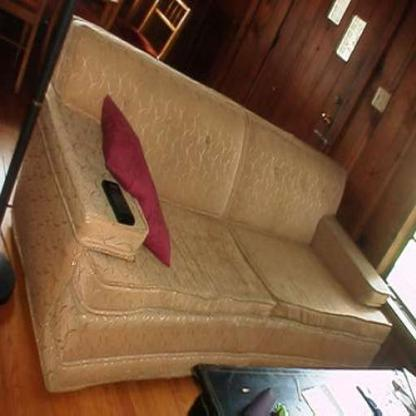chair: (115, 0, 194, 62), (3, 0, 48, 96)
sofa: (11, 15, 393, 392)
